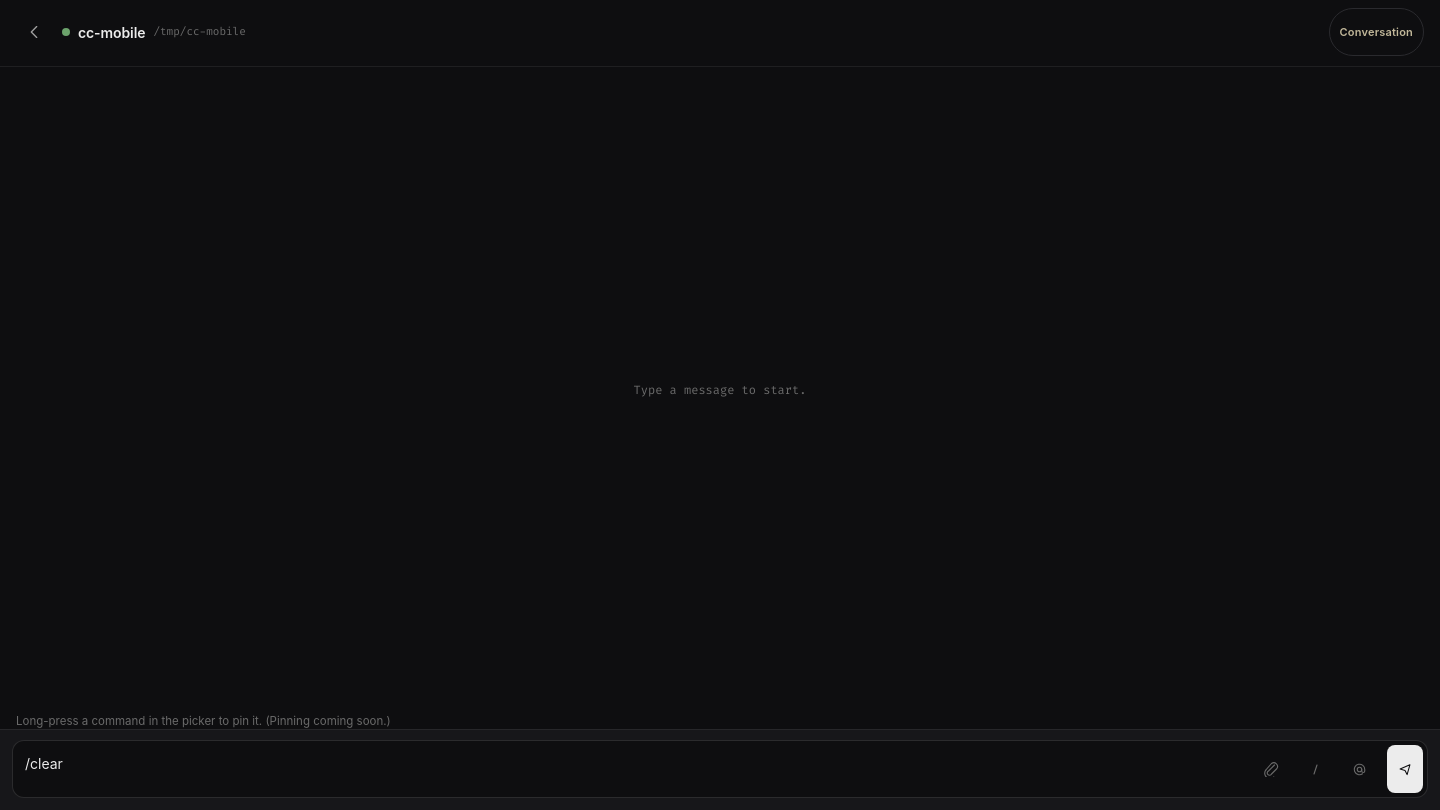
Scenario: PickerSheetTerminates › T2: ready commands render name and description, not Loading…
Click the button named "Insert slash command": point(1315, 769) x1=1297 y1=745 x2=1333 y2=793
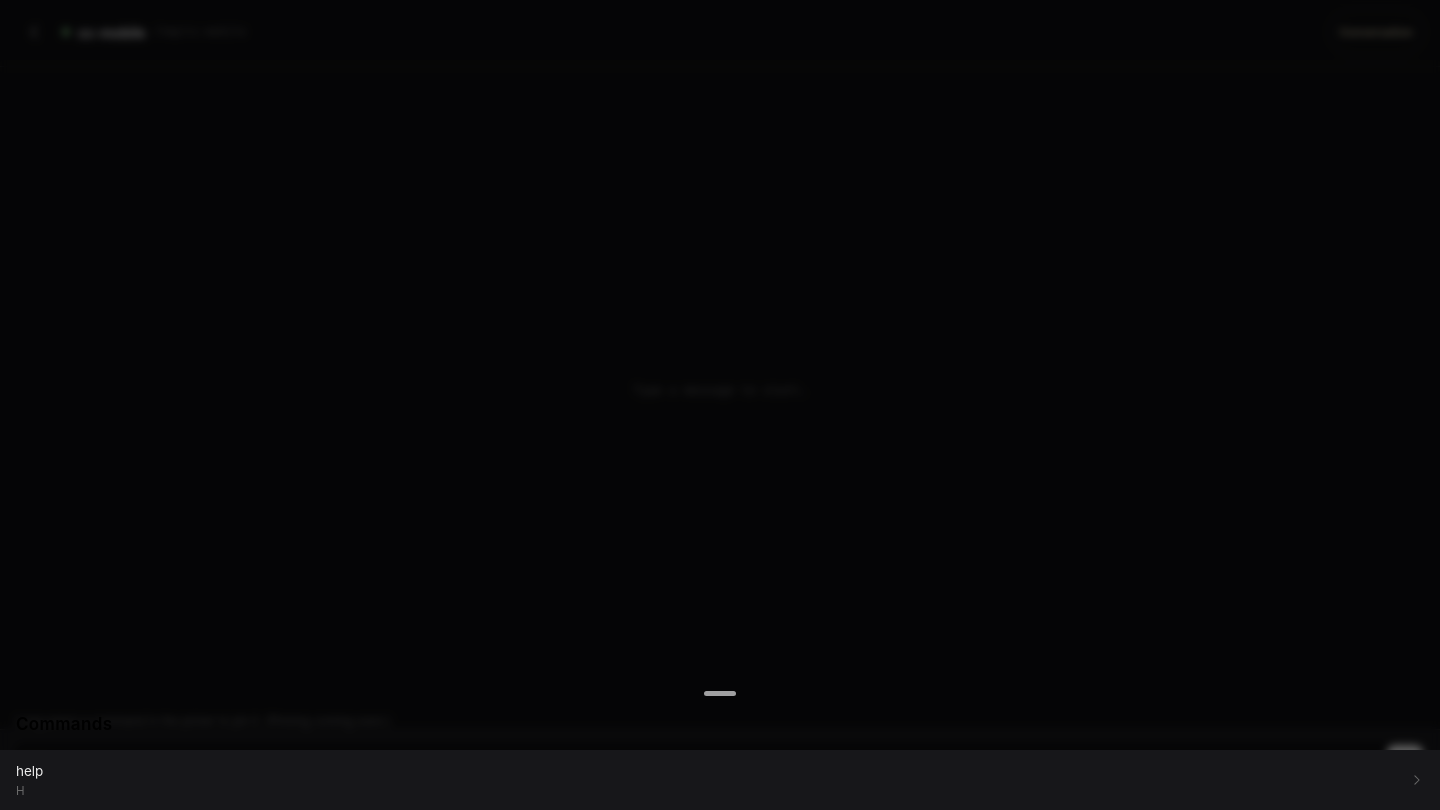
Now the text "help" is shown, box x1=16 y1=763 x2=43 y2=779
Now the text "H" is shown, box x1=16 y1=784 x2=24 y2=798
